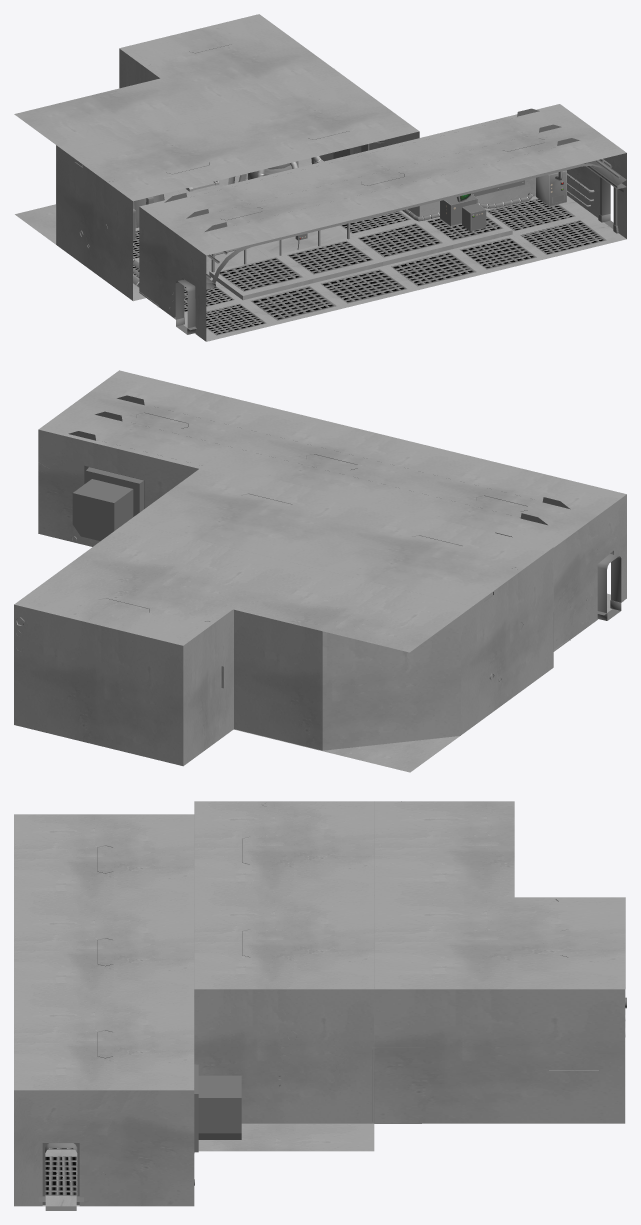
The model's file is MSH_Fusion_reactor_room_L2_R3_optimized.fbx.
3 views of the same model, one above another, from view 1: azimuth 30°, elevation 25°; view 2: azimuth 150°, elevation 25°; view 3: azimuth 270°, elevation 25° (orthographic). The views are drawn at different scales.
Parts seen in each view (by area): view 1: lightmap0, lightmap1, lightmap-1; view 2: lightmap0, lightmap-1, lightmap1; view 3: lightmap0.
Boxes of the visible parts, x1=… form: lightmap0: x1=14, y1=14, x2=626, y2=341; lightmap1: x1=75, y1=44, x2=626, y2=308; lightmap-1: x1=175, y1=178, x2=613, y2=334; lightmap0: x1=14, y1=370, x2=626, y2=772; lightmap-1: x1=597, y1=554, x2=621, y2=620; lightmap1: x1=16, y1=395, x2=587, y2=688; lightmap0: x1=14, y1=801, x2=625, y2=1206.
Bounding box in the file's own units: 30.91 × 6.91 × 28.07.
4 materials, 3 textured.
